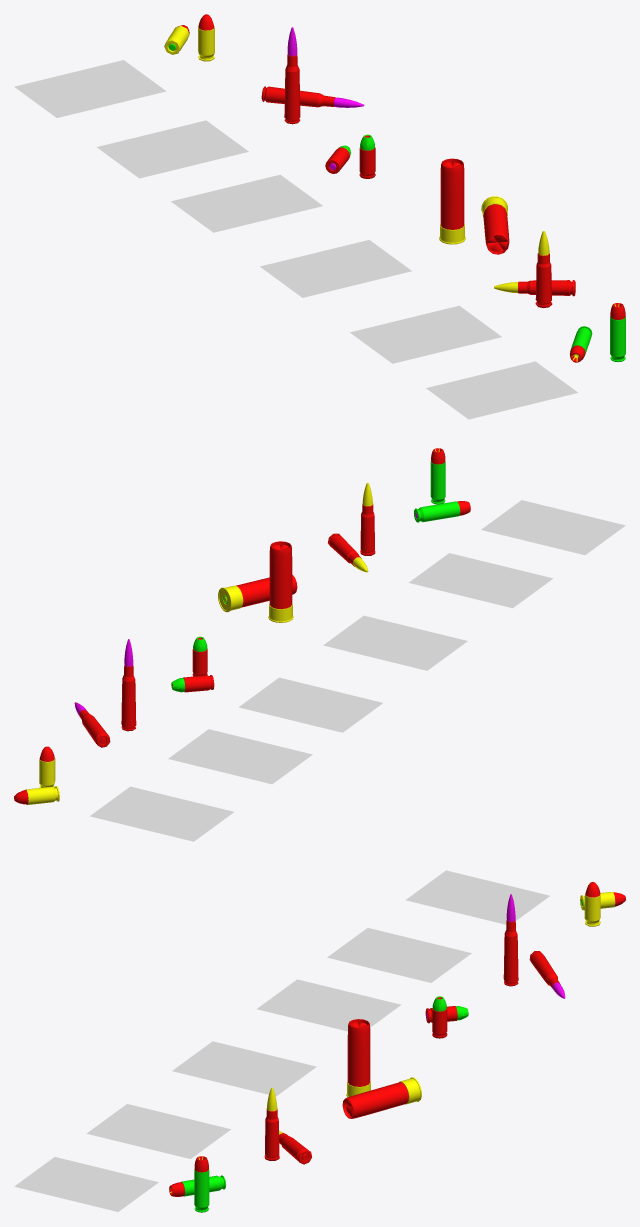
The model's file is Ammo pack 2.fbx.
The picture shows the model from 3 angles, top to bottom: view 1: azimuth 30°, elevation 25°; view 2: azimuth 150°, elevation 25°; view 3: azimuth 330°, elevation 25°; orthographic projection. The views are drawn at different scales.
Parts seen in each view (by area): view 1: Plane, 12 gauge 00 buckshot, 12 gauge 00 buckshot.001, 7.62 x 51 NATO, 7.62 x 51 NATO.001, 7.62 x 30 FMJ, .50 AE, 7.62 x 30 FMJ.001, Cylinder, 9 x 19 JHP; view 2: Plane, 12 gauge 00 buckshot, 12 gauge 00 buckshot.001, 7.62 x 51 NATO, 7.62 x 30 FMJ, .50 AE.001, .50 AE, Cylinder.001, 7.62 x 51 NATO.001, 7.62 x 30 FMJ.001, 9 x 19 JHP.001, Cylinder (+1 smaller); view 3: Plane, 12 gauge 00 buckshot.001, 12 gauge 00 buckshot, 7.62 x 51 NATO, 7.62 x 30 FMJ, .50 AE, Cylinder, 7.62 x 51 NATO.001, .50 AE.001, 9 x 19 JHP, 7.62 x 30 FMJ.001.
Part boxes in pixels (box(x1,y1,x2,y2)): Plane: box(14, 60, 577, 419); 12 gauge 00 buckshot: box(439, 158, 465, 244); 12 gauge 00 buckshot.001: box(481, 196, 509, 254); 7.62 x 51 NATO: box(284, 27, 300, 124); 7.62 x 51 NATO.001: box(261, 86, 364, 107); 7.62 x 30 FMJ: box(535, 231, 552, 307); .50 AE: box(610, 303, 625, 361); 7.62 x 30 FMJ.001: box(494, 280, 575, 296); Cylinder: box(198, 14, 214, 61); 9 x 19 JHP: box(359, 134, 375, 178); Plane: box(90, 500, 625, 841); 12 gauge 00 buckshot: box(268, 541, 293, 622); 12 gauge 00 buckshot.001: box(218, 575, 297, 612); 7.62 x 51 NATO: box(121, 639, 136, 731); 7.62 x 30 FMJ: box(360, 482, 375, 555); .50 AE.001: box(414, 501, 470, 522); .50 AE: box(430, 448, 445, 504); Cylinder.001: box(14, 786, 59, 804); 7.62 x 51 NATO.001: box(74, 702, 110, 747); 7.62 x 30 FMJ.001: box(328, 533, 368, 572); 9 x 19 JHP.001: box(171, 675, 214, 692); Cylinder: box(39, 746, 55, 787); Plane: box(14, 870, 549, 1211); 12 gauge 00 buckshot.001: box(342, 1077, 421, 1118); 12 gauge 00 buckshot: box(346, 1019, 370, 1097); 7.62 x 51 NATO: box(503, 894, 518, 986); 7.62 x 30 FMJ: box(264, 1087, 279, 1160); .50 AE: box(194, 1156, 209, 1212); Cylinder: box(584, 882, 600, 926); 7.62 x 51 NATO.001: box(529, 951, 565, 998); .50 AE.001: box(169, 1175, 225, 1196); 9 x 19 JHP: box(432, 996, 447, 1038); 7.62 x 30 FMJ.001: box(279, 1130, 311, 1164).
Size of the model in its own units: 18.8 by 7.14 by 63.62.
